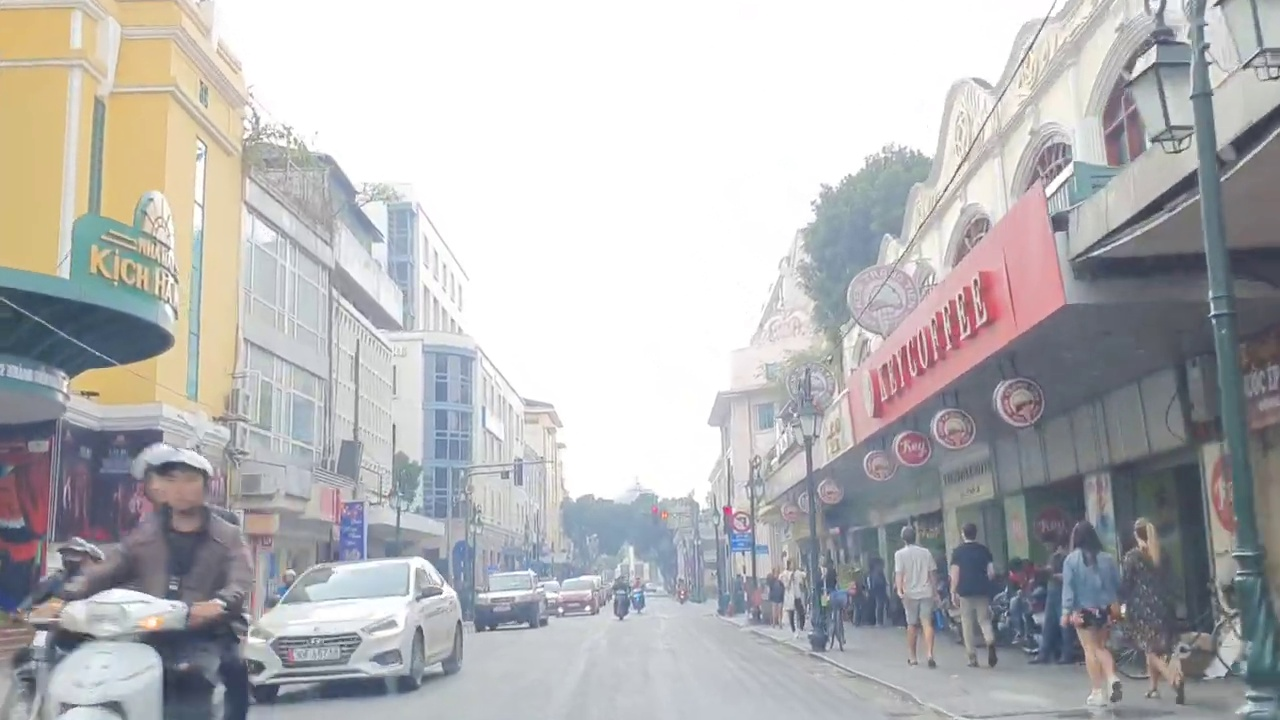vehicle-plate: (284, 646, 343, 663)
